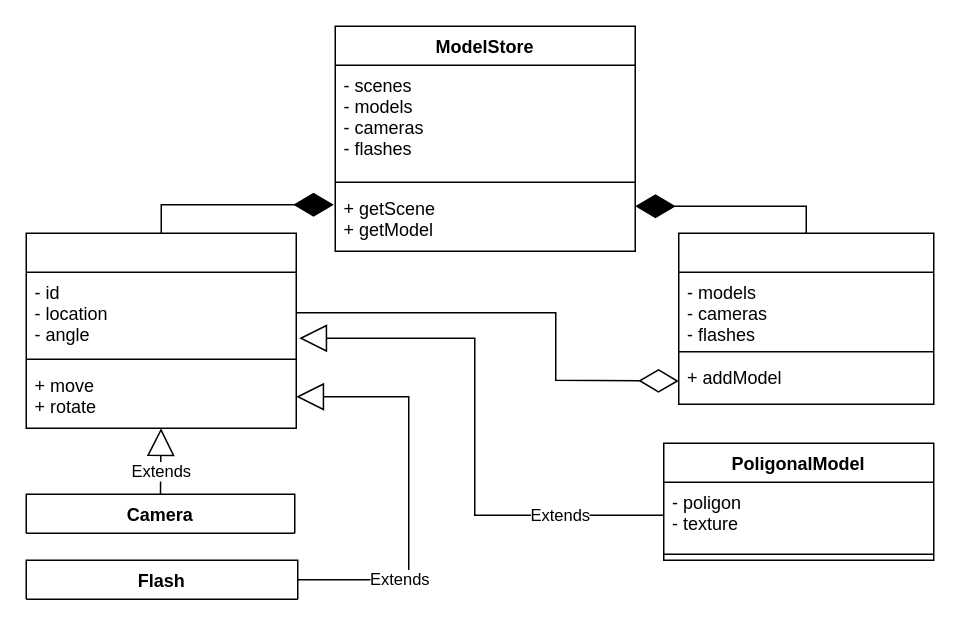
Image size: 960x633. Some labels were removed from this diagram. The shapes that lost their labels are listed below. From the top down, each one's box as (x1, y1, x2, y2) in pixels, then its label:
(25, 232, 296, 428): Model
(677, 232, 934, 404): Scene
